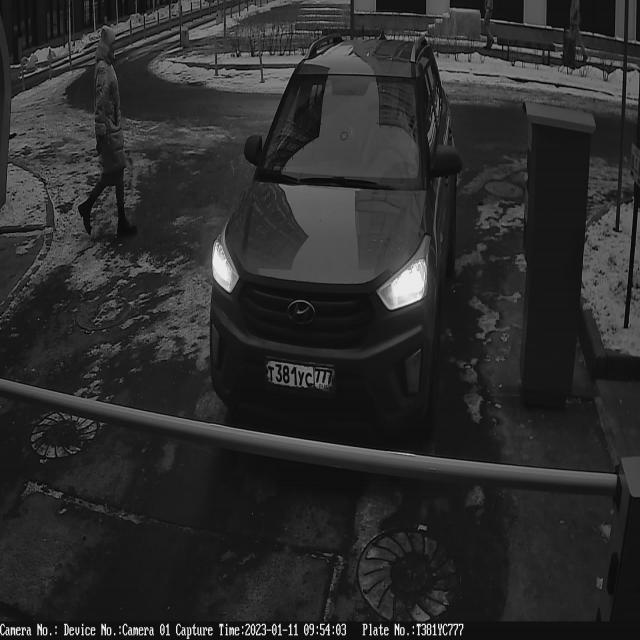car-plate-numbers: (263, 351, 339, 396)
